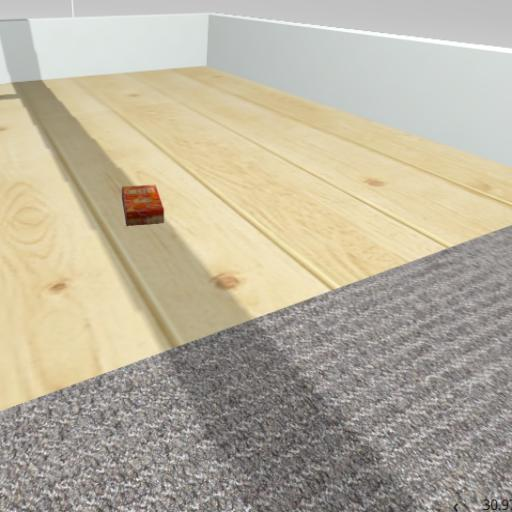BOX_R: (94, 164, 206, 256)
